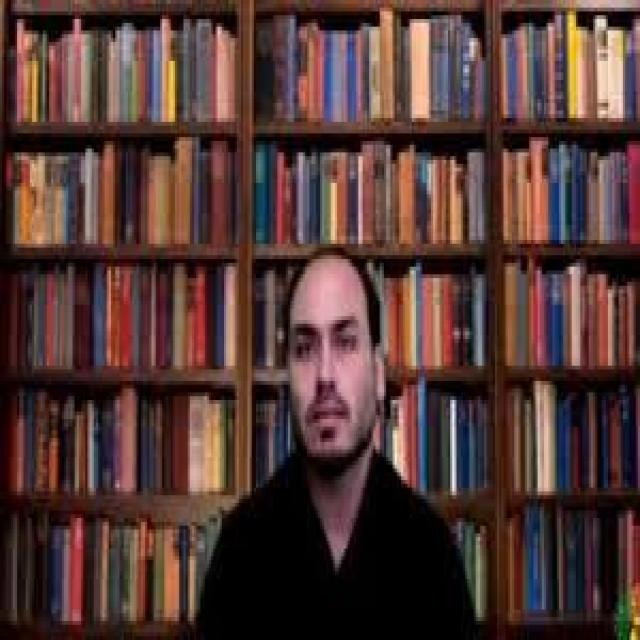person: (190, 202, 471, 628)
